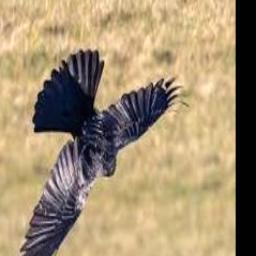Crow: (9, 51, 189, 256)
